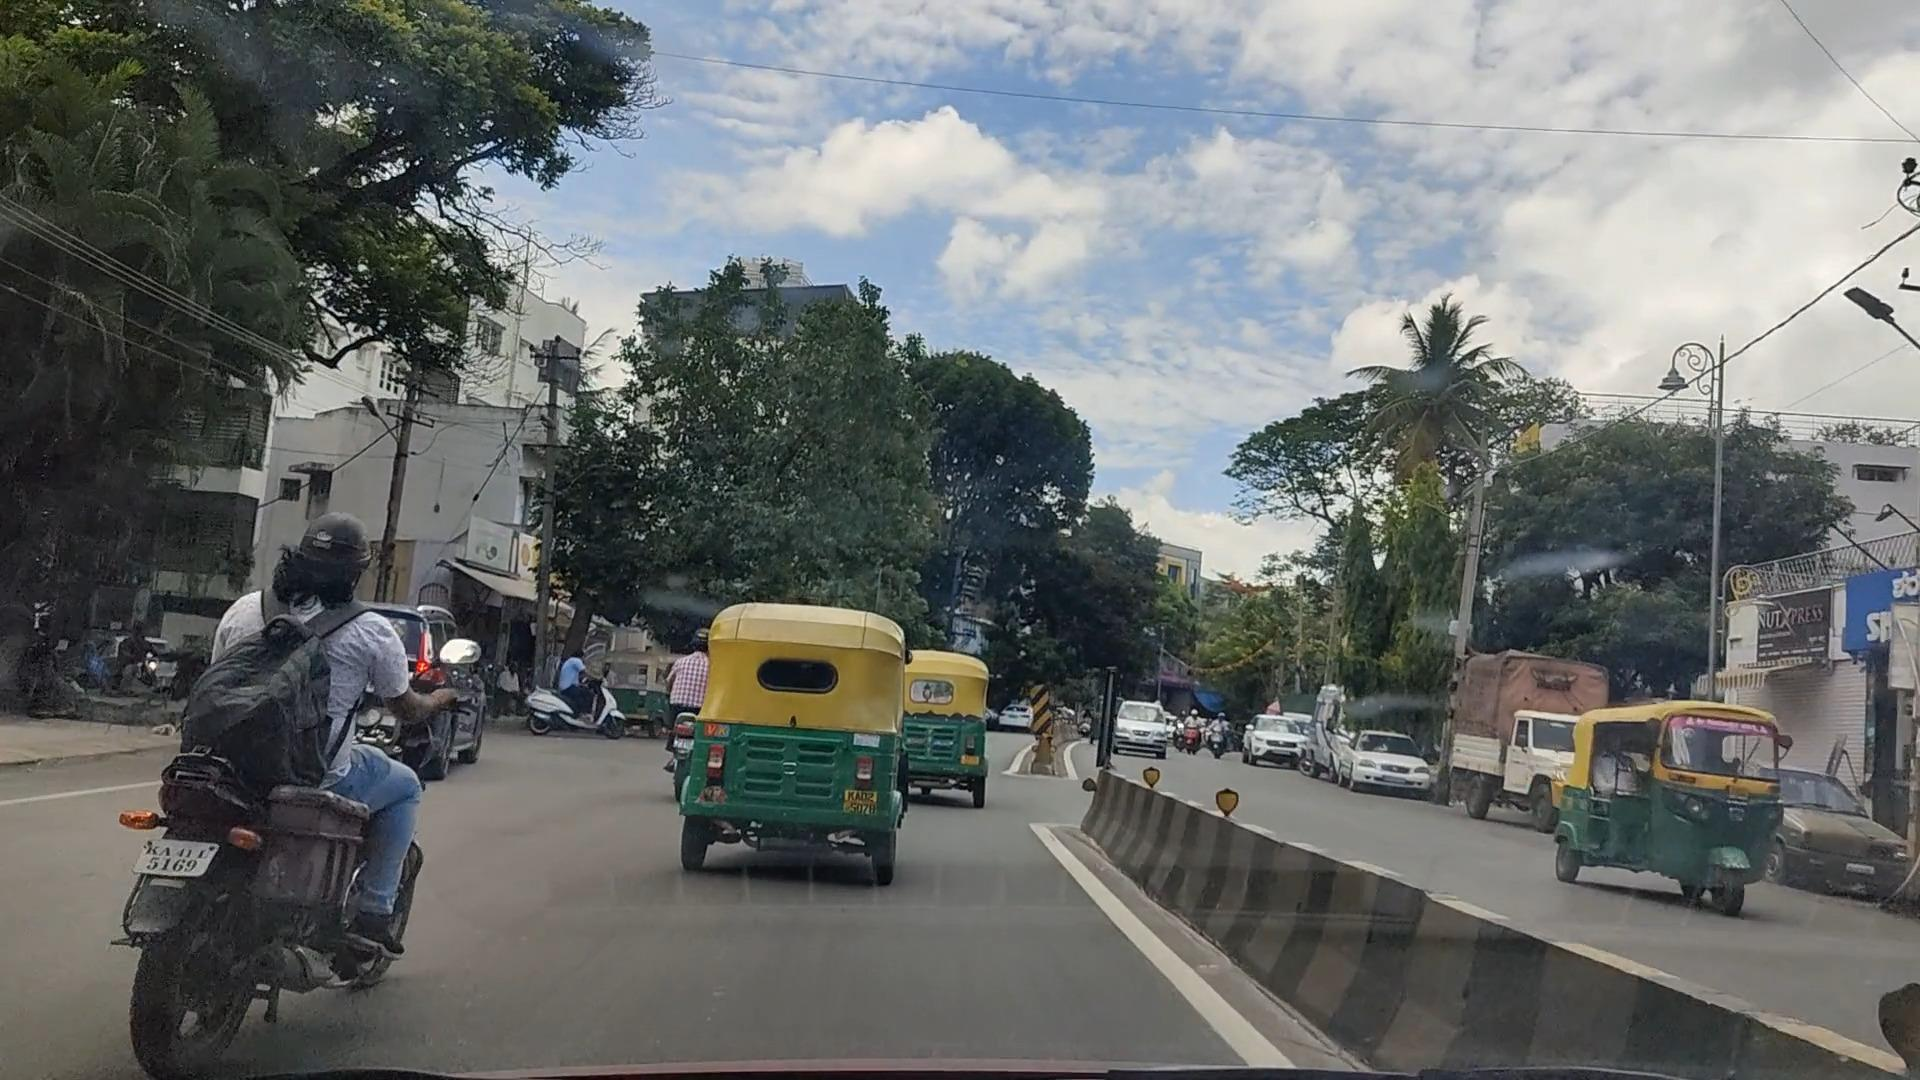LMV: (145, 530, 426, 1040), (694, 591, 876, 893), (895, 663, 1004, 820)
